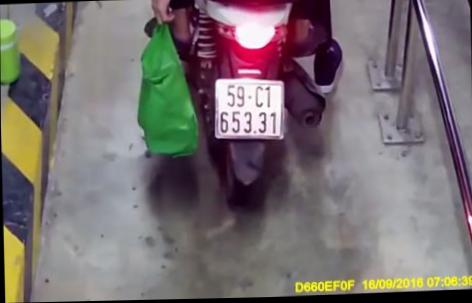LP: (212, 75, 286, 144)
